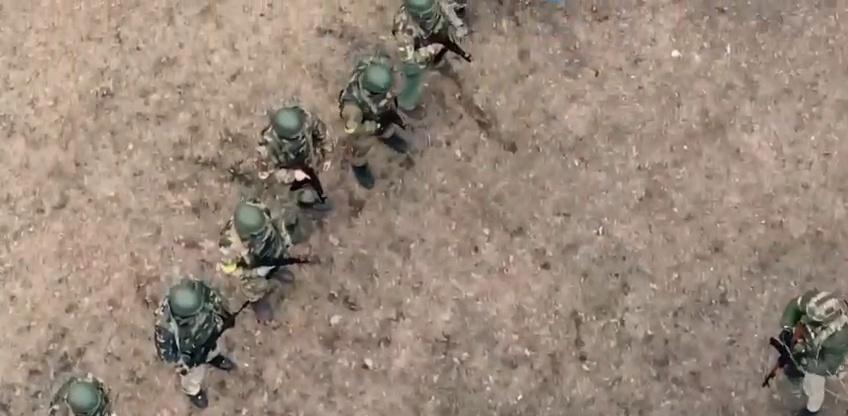person: (153, 279, 252, 409), (217, 198, 313, 322), (763, 289, 848, 416), (340, 54, 410, 190), (391, 0, 477, 101), (257, 106, 336, 210), (48, 371, 116, 416)
